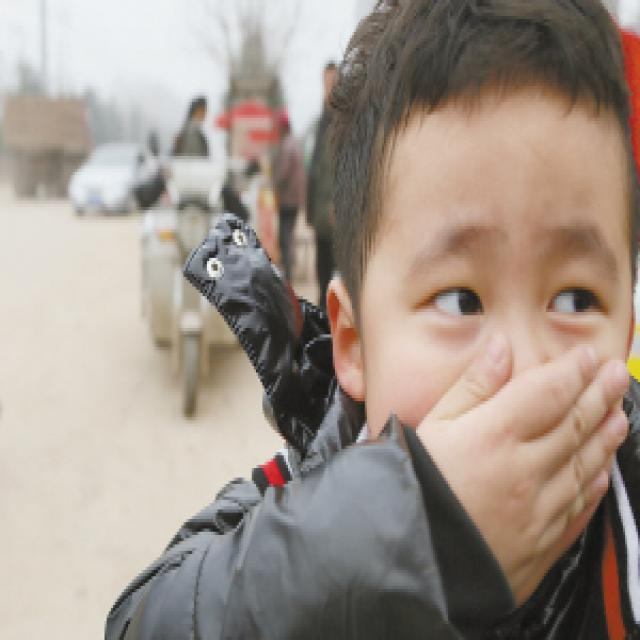nomask: (369, 113, 634, 562)
